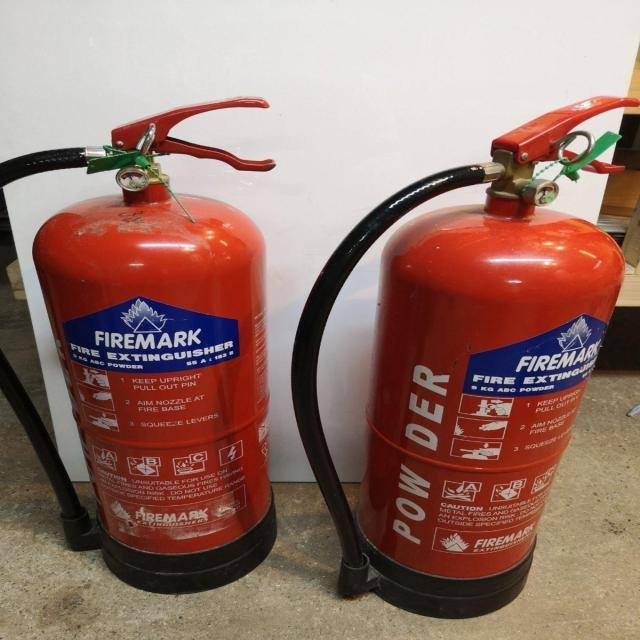fire_extinguisher: (280, 91, 640, 627), (0, 90, 282, 600)
